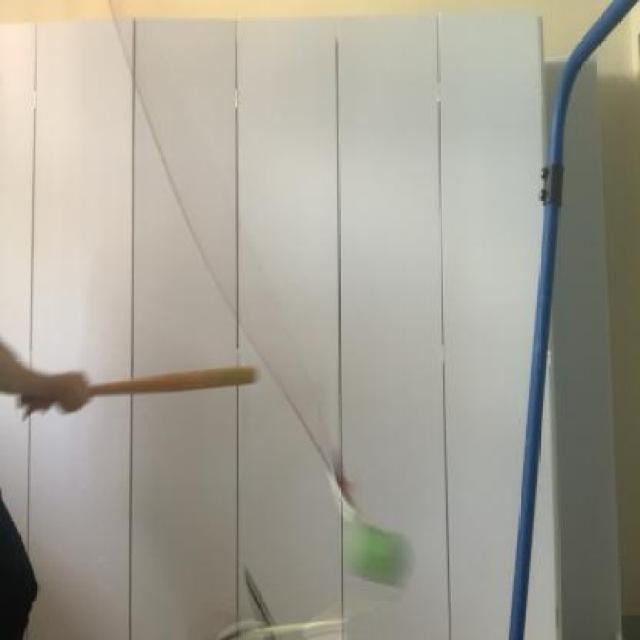baseball: (336, 516, 426, 593)
